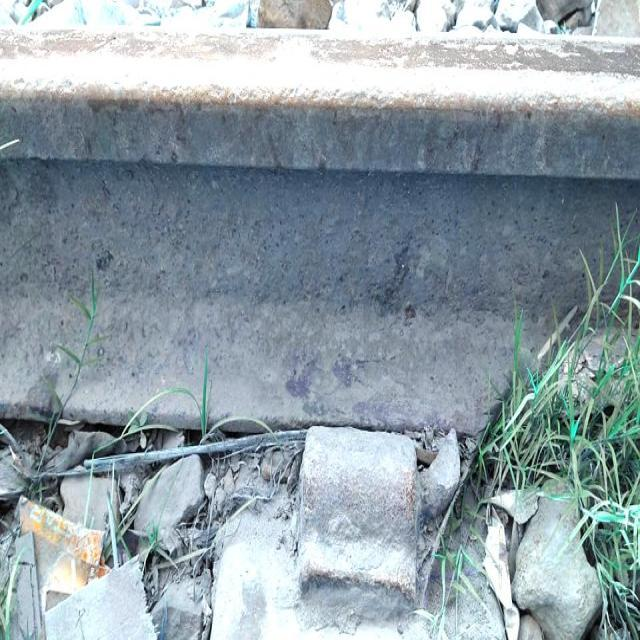Missing Fastener: (296, 385, 425, 636)
